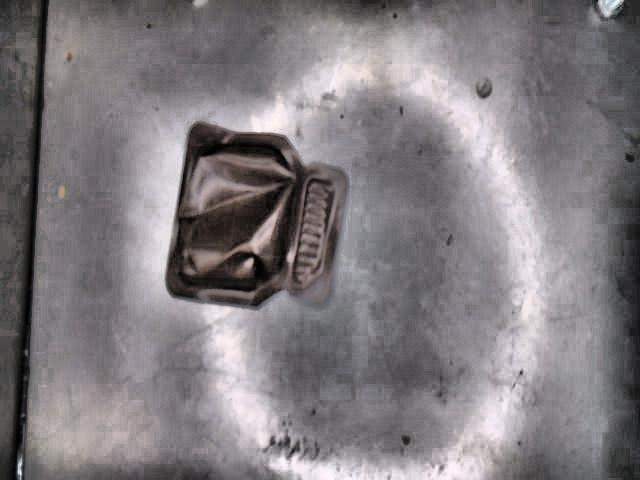Plastic: (165, 122, 350, 309)
